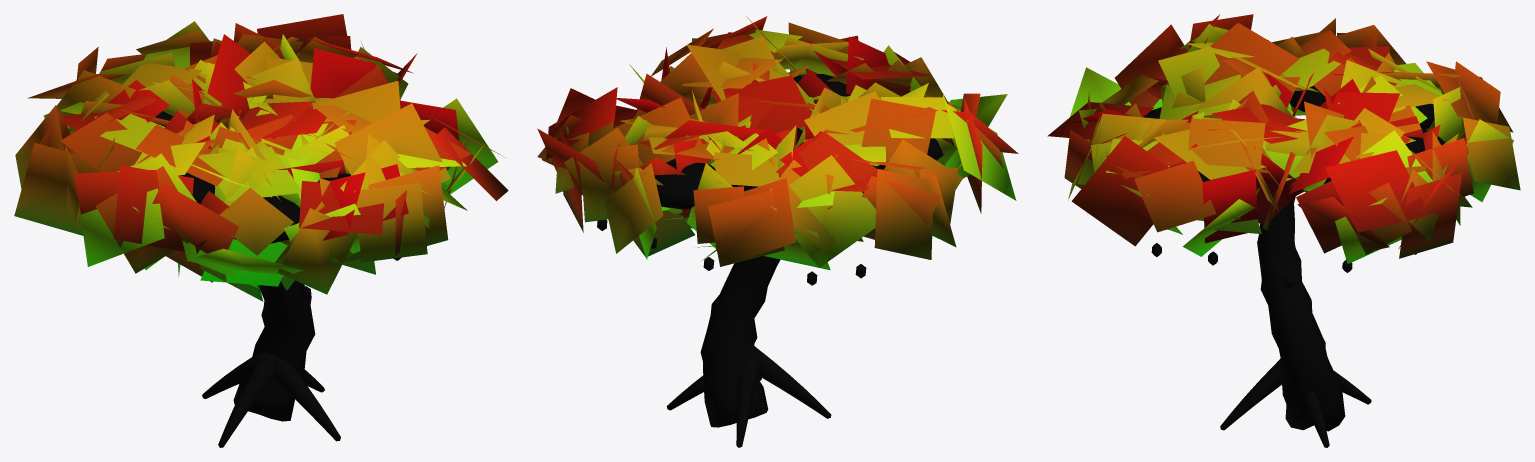
File: env_tree_bg_b.fbx
The picture shows the model from 3 angles, left to right: view 1: azimuth 30°, elevation 25°; view 2: azimuth 150°, elevation 25°; view 3: azimuth 270°, elevation 25°; orthographic projection. The views are drawn at different scales.
Visible parts, largest first — view 1: env_tree_bg_b; view 2: env_tree_bg_b; view 3: env_tree_bg_b.
Boxes of the visible parts, x1,y1,x2,y2 form: env_tree_bg_b: (14, 14, 508, 447); env_tree_bg_b: (537, 16, 1018, 447); env_tree_bg_b: (1047, 14, 1520, 447).
Bounding box in the file's own units: 8.49 × 6.94 × 8.88.
